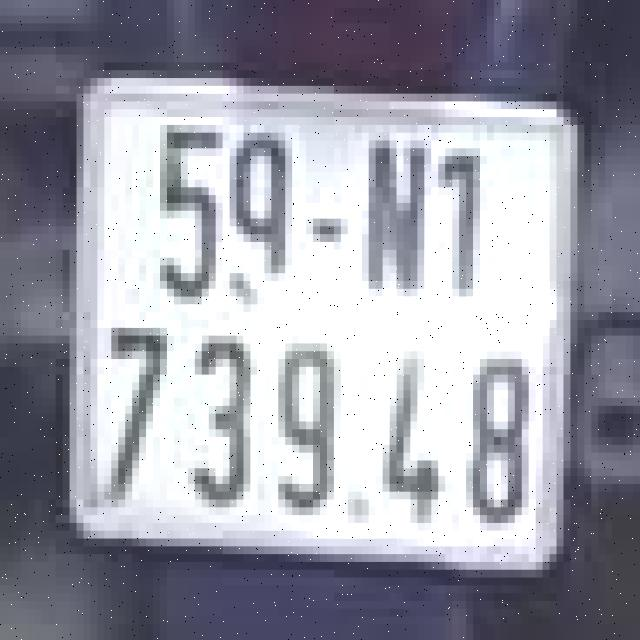1: (438, 140, 487, 320)
3: (188, 328, 257, 507)
4: (383, 332, 445, 534)
5: (150, 113, 226, 308)
7: (94, 324, 177, 511)
8: (459, 343, 536, 531)
9: (271, 332, 348, 519), (230, 121, 292, 316)
N: (362, 125, 431, 320)
